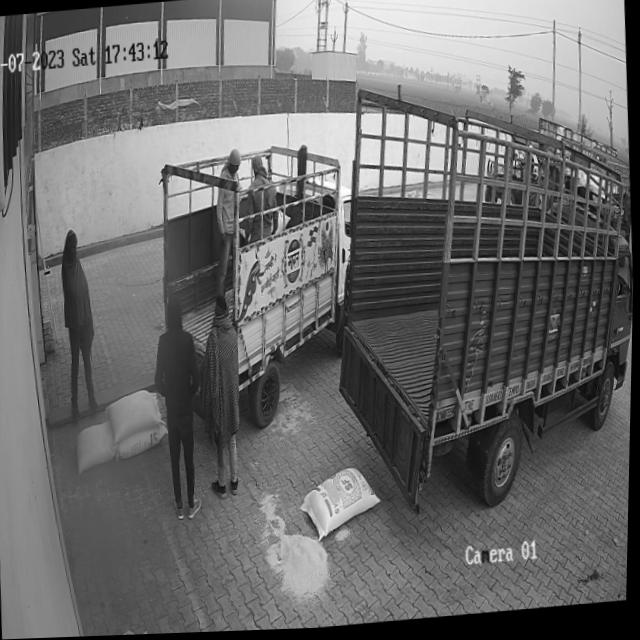sack: (301, 468, 386, 544), (105, 389, 165, 443), (76, 421, 118, 472), (118, 425, 171, 460)
